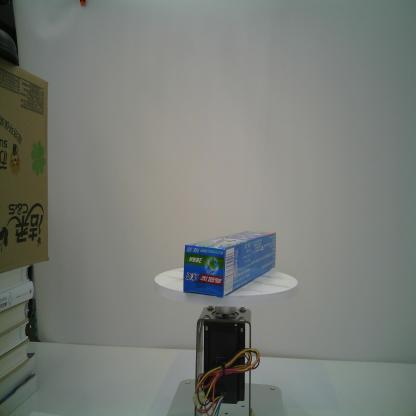Personal Hygiene: (182, 229, 277, 299)
